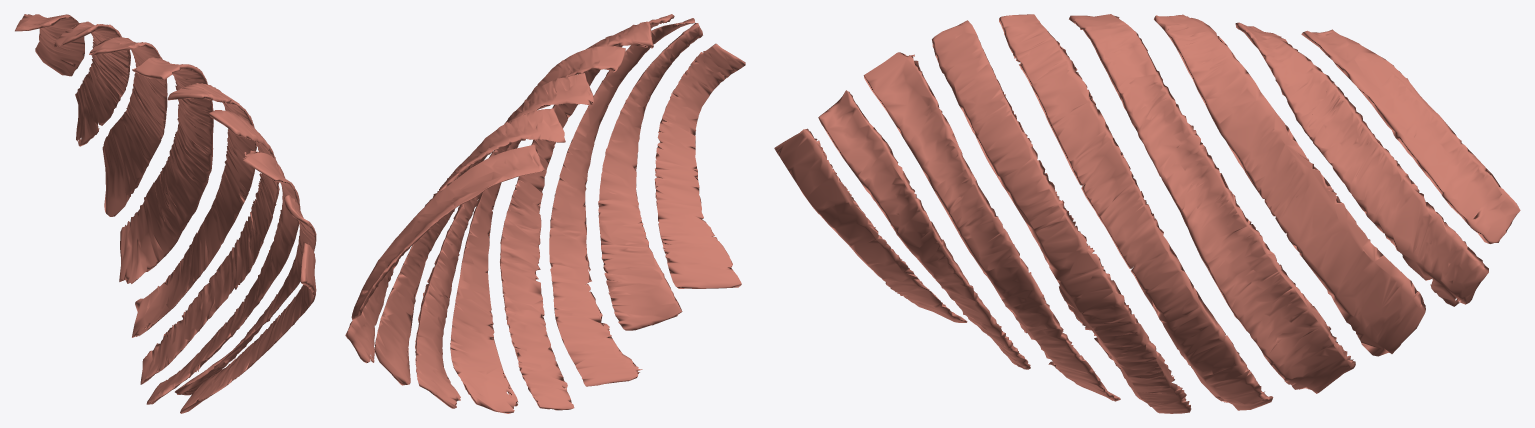
The picture shows the model from 3 angles, left to right: view 1: azimuth 30°, elevation 25°; view 2: azimuth 150°, elevation 25°; view 3: azimuth 270°, elevation 25°; orthographic projection. The views are drawn at different scales.
Visible parts, largest first — view 1: 左侧肋间最内肌; view 2: 左侧肋间最内肌; view 3: 左侧肋间最内肌.
Part boxes in pixels (x1,y1,x2,y2): 左侧肋间最内肌: (15, 14, 316, 413); 左侧肋间最内肌: (345, 14, 745, 413); 左侧肋间最内肌: (774, 14, 1520, 413).
Bounding box in the file's own units: 0.135 × 0.276 × 0.4786.
